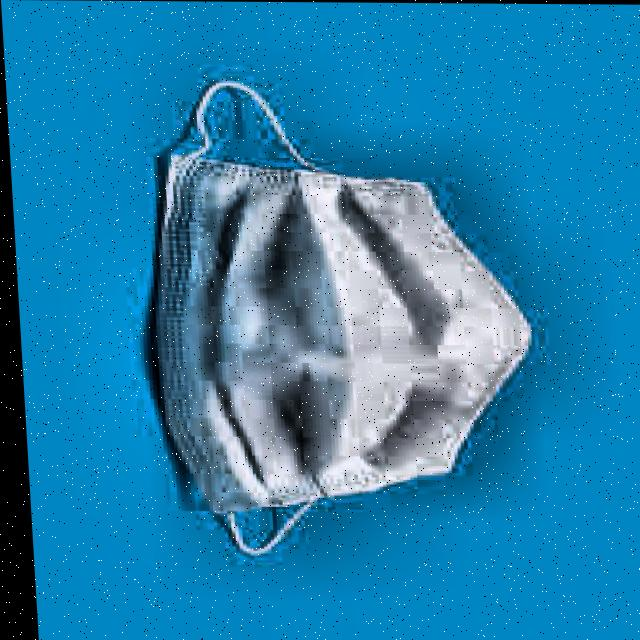trash: (144, 160, 544, 506)
